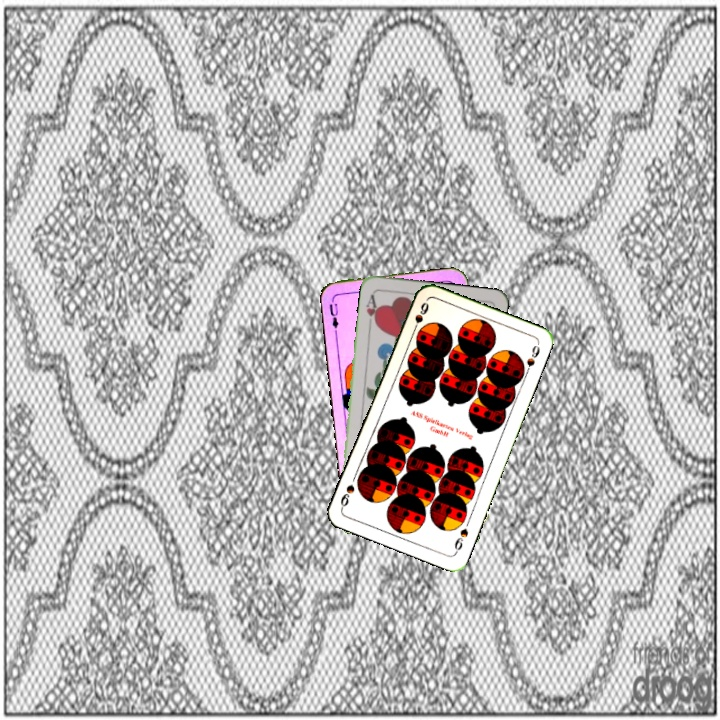EU: (325, 294, 342, 334)
HA: (362, 290, 381, 330)
S9: (408, 298, 431, 336), (450, 524, 471, 556)
